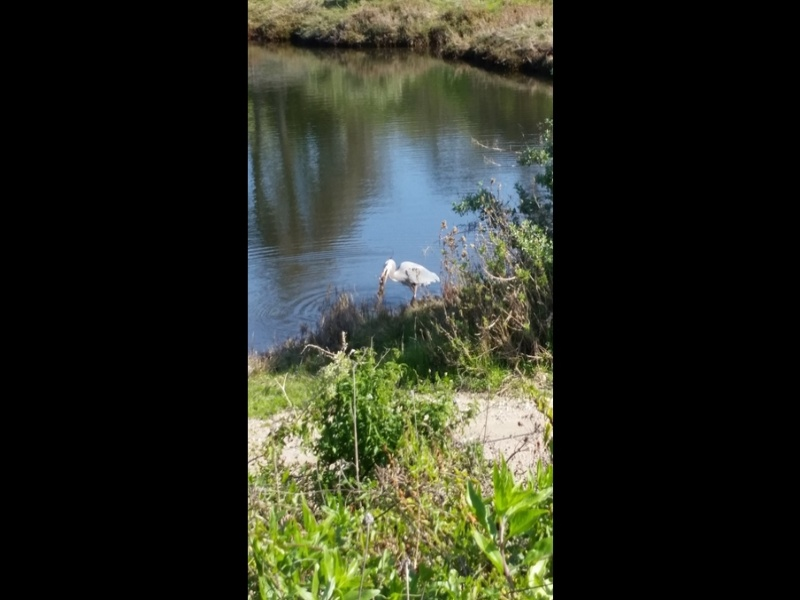heron: (379, 257, 441, 296)
